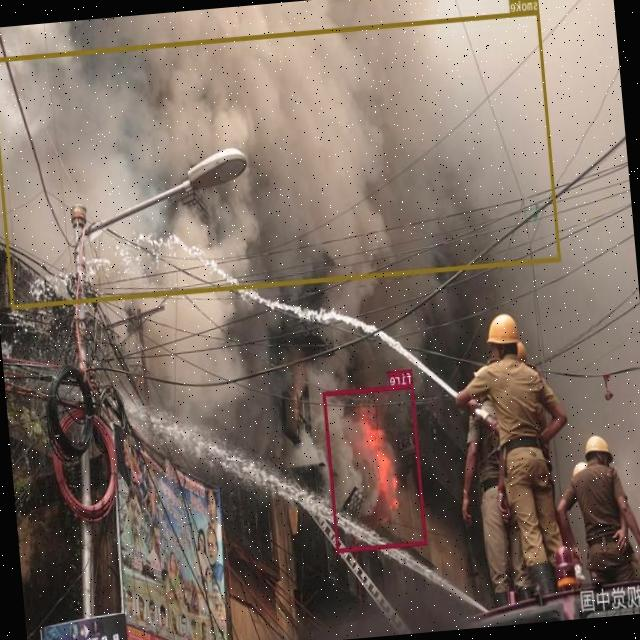fire: (322, 384, 428, 552)
smoke: (0, 9, 561, 307)
